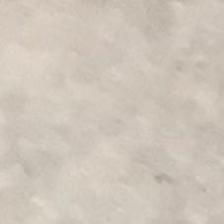Non_Crack: (19, 24, 216, 216)
